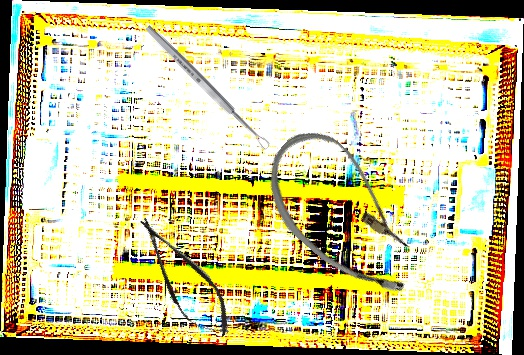Cannula: (243, 116, 448, 312)
Micro Scissor: (123, 206, 243, 349)
Surgical Spoon: (143, 23, 272, 152)
